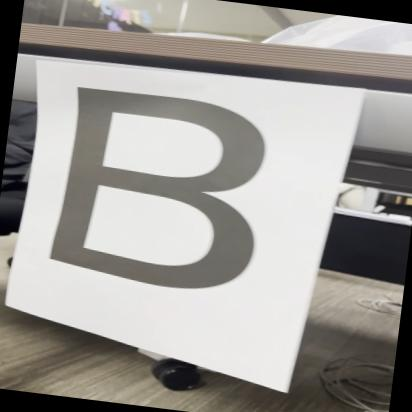seat: (25, 71, 279, 312)
